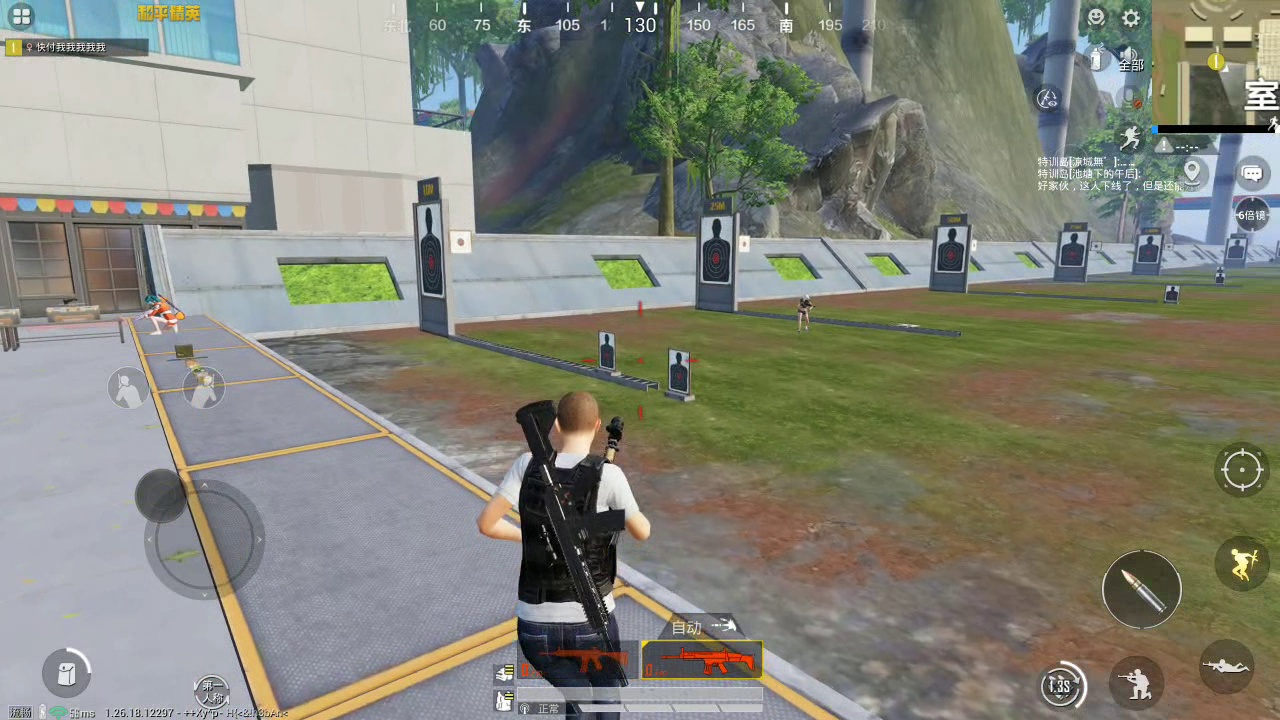enemy: (141, 288, 183, 336), (795, 294, 812, 332)
